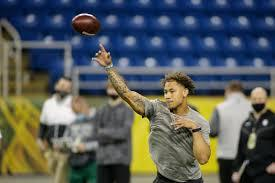americanFootball: (72, 12, 101, 39)
